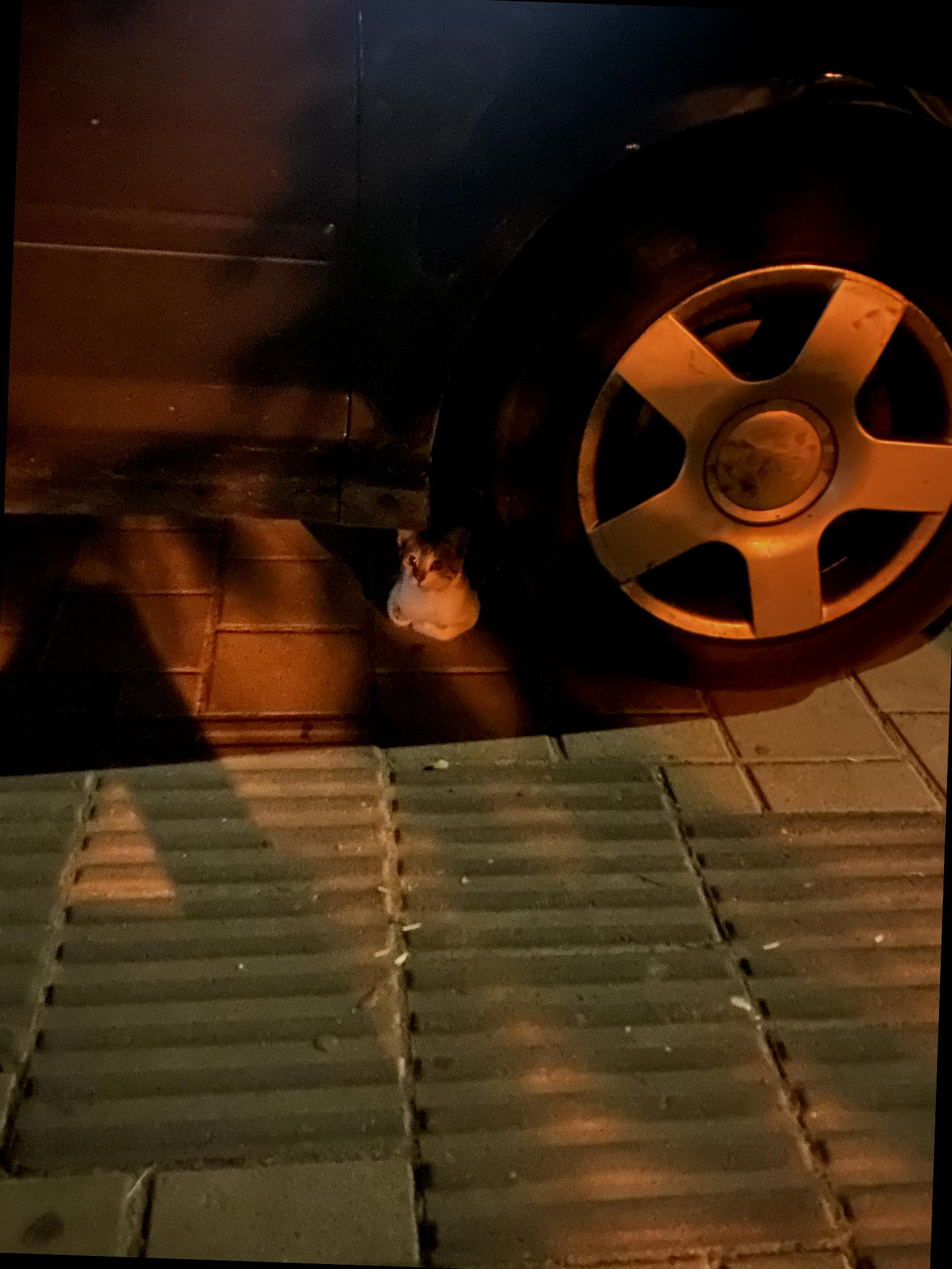macka: (388, 503, 520, 644)
